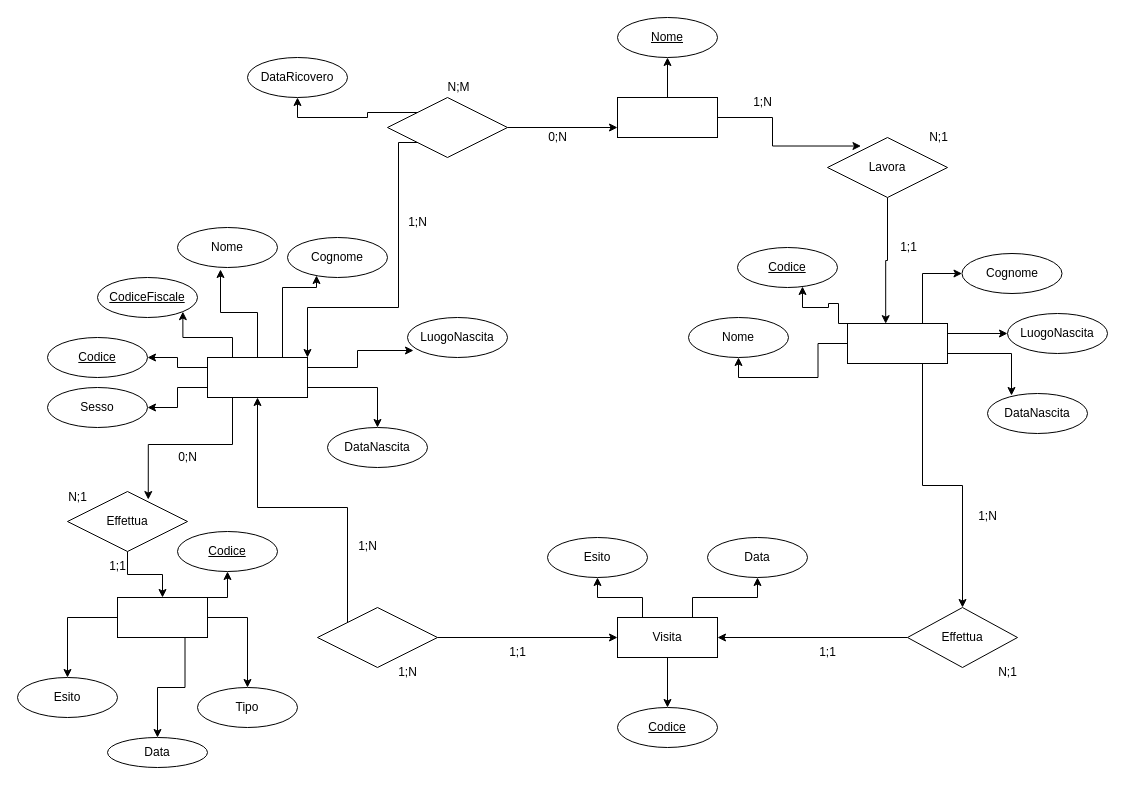
This 1125x785 diagram has some shape labels left out. The centre of each missing label's shape, as x and y in pixels:
"Esami" belongs at (x=162, y=617).
"MEDICO" belongs at (x=897, y=343).
"PAZIENTE" belongs at (x=257, y=377).
"REPARTO" belongs at (x=667, y=117).
"Riceve" belongs at (x=377, y=637).
"Ricoverato" belongs at (x=447, y=127).
